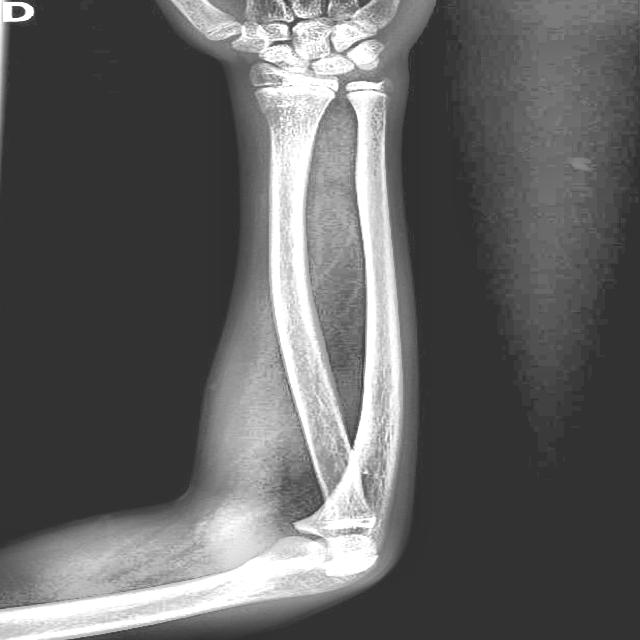line: (263, 102, 294, 116), (362, 471, 397, 481)
